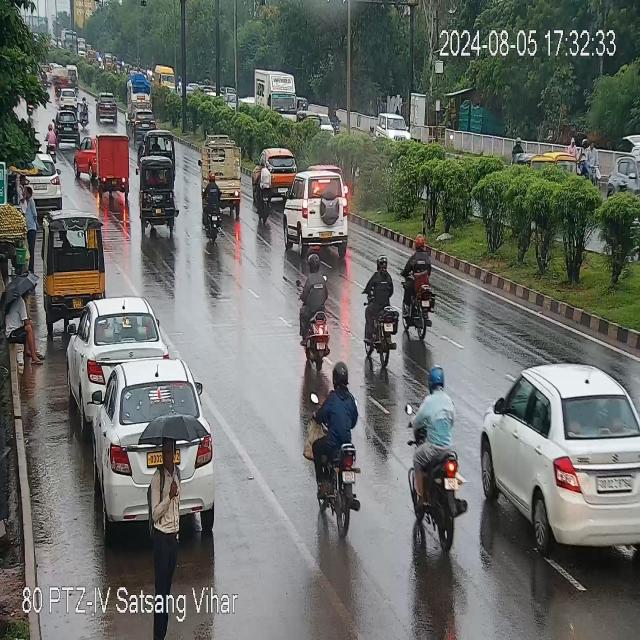2-wheelers: (402, 367, 466, 542), (315, 357, 366, 530), (399, 234, 444, 340), (357, 259, 399, 372), (303, 249, 327, 372), (200, 172, 226, 240), (250, 161, 274, 223), (48, 61, 81, 90), (128, 68, 155, 102), (46, 122, 58, 156), (79, 96, 89, 130)
auto: (42, 215, 106, 318), (280, 170, 348, 259), (139, 159, 178, 237), (523, 150, 595, 183), (96, 134, 132, 195), (361, 114, 416, 144), (613, 152, 640, 201), (140, 126, 175, 152)
car: (478, 361, 640, 548), (89, 361, 204, 525), (74, 302, 163, 408), (13, 157, 62, 205), (260, 147, 299, 194), (74, 138, 98, 185), (55, 108, 80, 143), (127, 107, 157, 132), (95, 94, 119, 122)
pedestrian: (150, 433, 180, 581), (5, 287, 48, 368), (24, 184, 38, 268), (18, 173, 25, 210)
